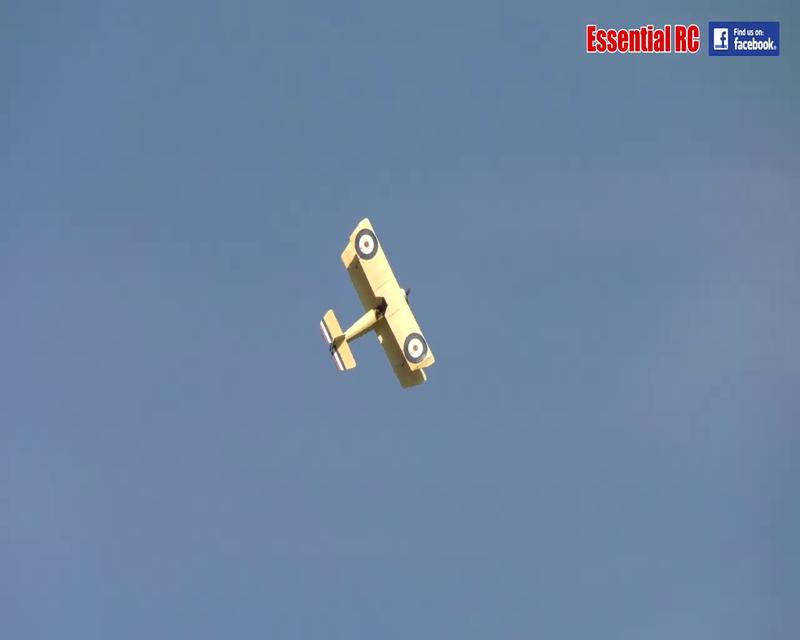UAV: (320, 218, 434, 385)
